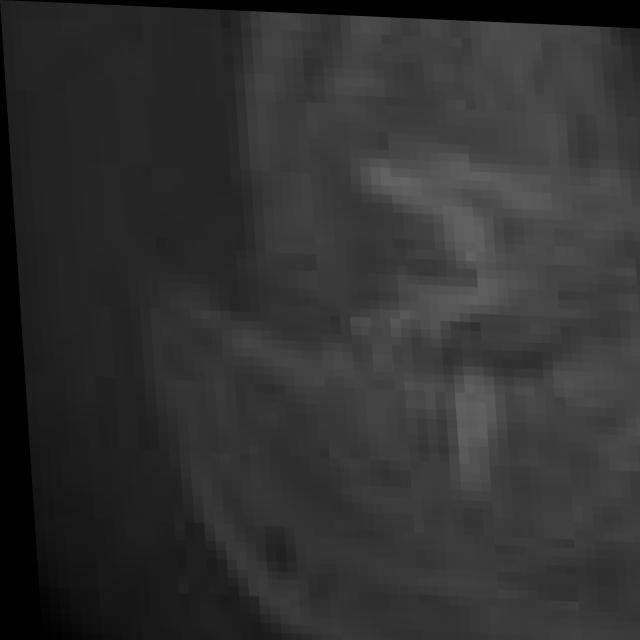fracture: (14, 1, 640, 640)
